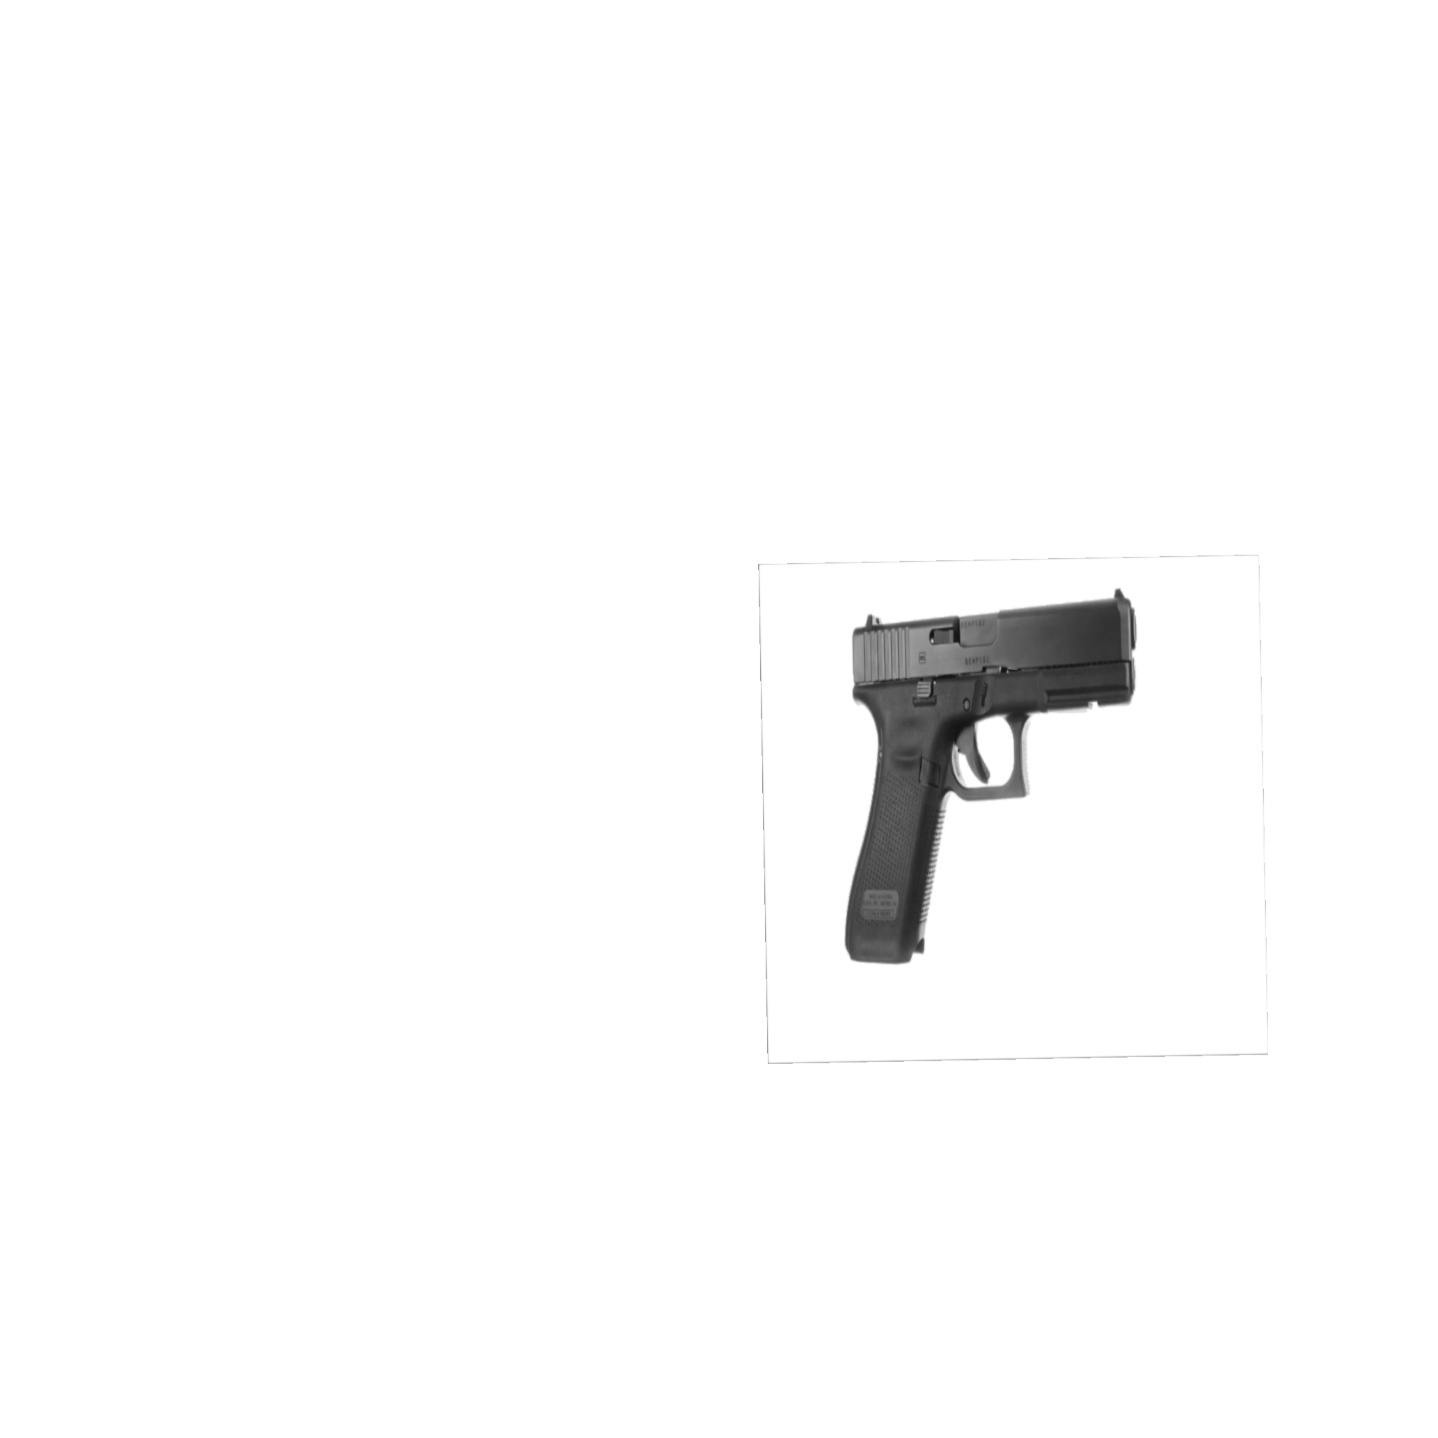gun: (845, 586, 1136, 964)
